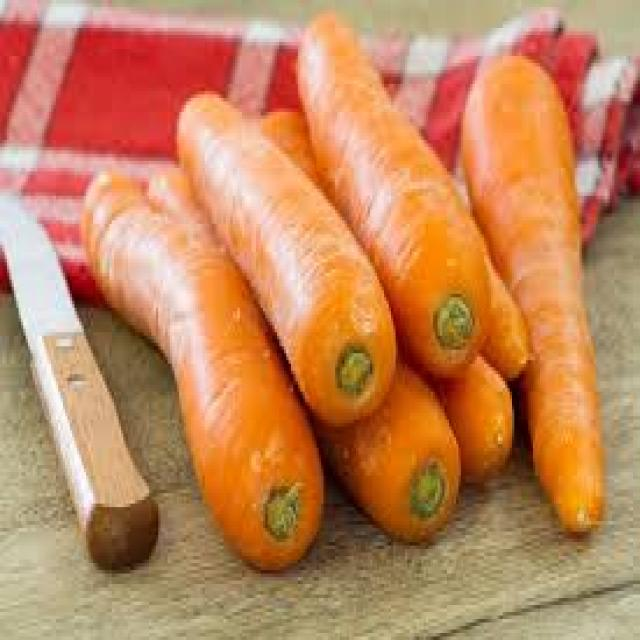organic waste: (79, 161, 324, 570), (256, 98, 507, 472), (172, 77, 394, 434), (293, 0, 482, 374), (461, 49, 603, 525), (300, 336, 459, 542), (472, 224, 526, 378)
